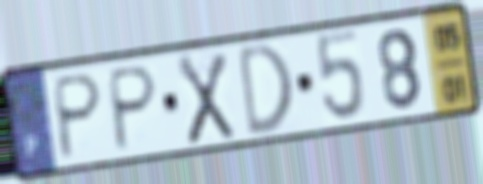5: (313, 26, 368, 127)
8: (376, 26, 425, 113)
D: (236, 39, 295, 142)
P: (107, 62, 160, 156), (52, 70, 105, 164)
X: (174, 49, 237, 148)
